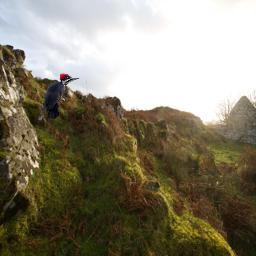Woodpecker: (41, 73, 80, 119)
